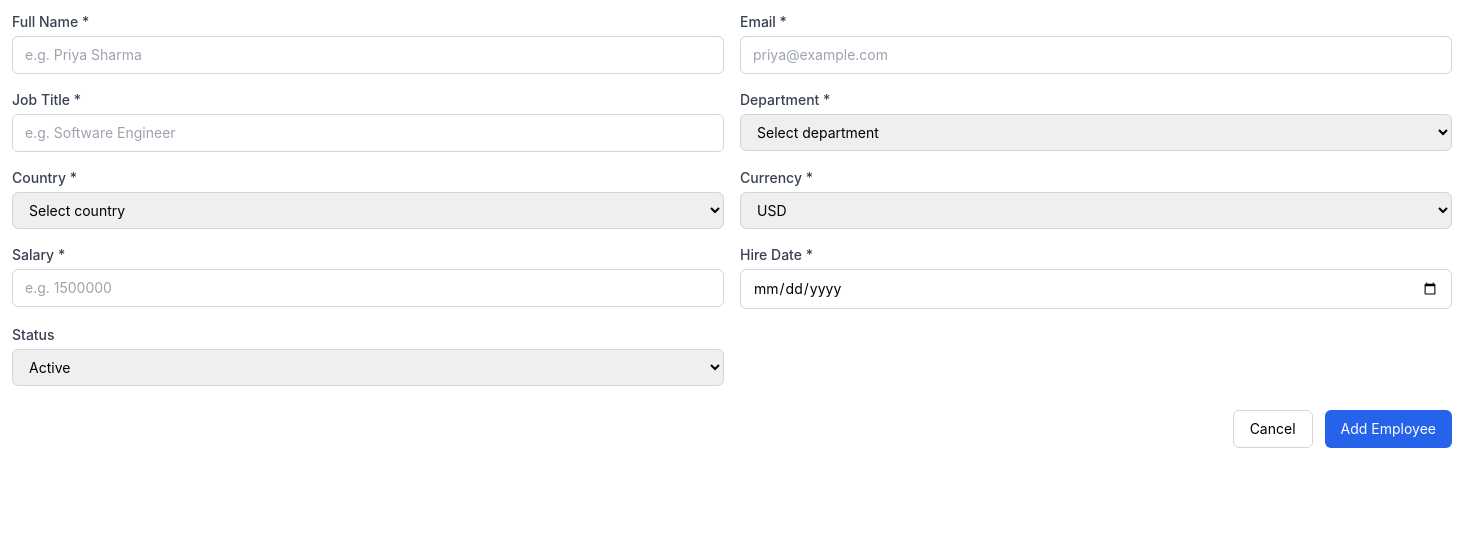
EmployeeForm › shows validation error when full name is empty
Click the button "Add Employee" at (1388, 429), box left=1325, top=410, right=1452, bottom=448
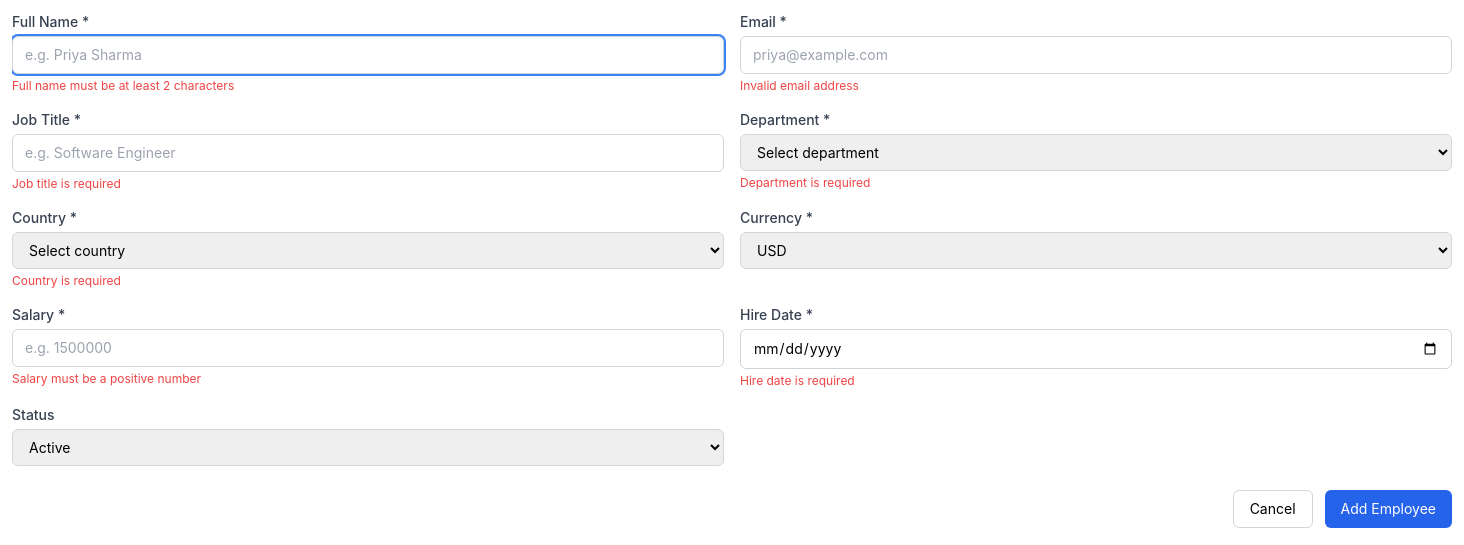
Expected: the text "Full name must be at least 2 characters" is shown, left=12, top=78, right=234, bottom=93
